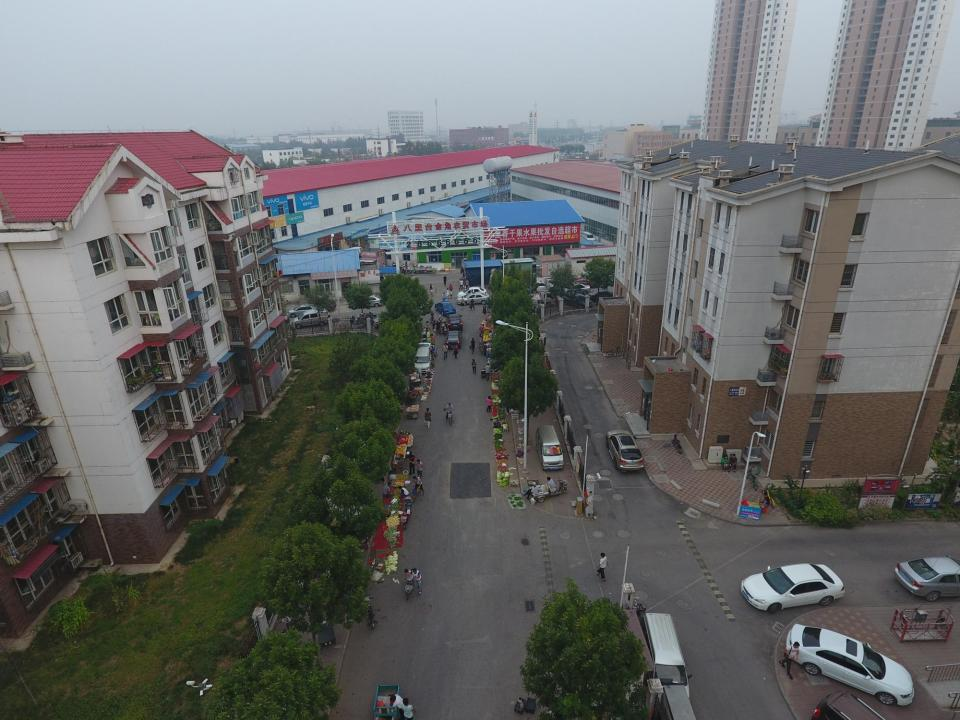car: (785, 624, 915, 706), (739, 564, 846, 614), (894, 556, 960, 600), (604, 429, 644, 472), (288, 304, 325, 318), (299, 299, 336, 313), (258, 310, 288, 326), (595, 552, 610, 583)
van: (640, 611, 693, 703), (806, 689, 886, 720), (534, 424, 564, 470), (290, 309, 332, 331)
